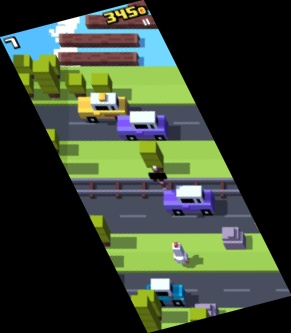car: (78, 91, 129, 123), (164, 186, 215, 215), (118, 111, 167, 141), (145, 277, 186, 310)
duck: (171, 242, 190, 266)
light off: (148, 166, 170, 188)
log: (86, 15, 164, 29), (57, 53, 140, 66), (60, 34, 140, 47), (129, 1, 197, 11)
rail: (68, 178, 244, 198)
rock: (221, 227, 246, 249), (196, 302, 218, 323)
tree: (126, 295, 160, 331), (33, 63, 59, 97), (139, 142, 164, 173), (137, 290, 162, 319), (86, 217, 110, 245), (63, 73, 86, 99), (91, 74, 113, 99), (188, 308, 210, 333), (42, 129, 61, 156), (39, 55, 59, 78), (14, 56, 33, 79)
